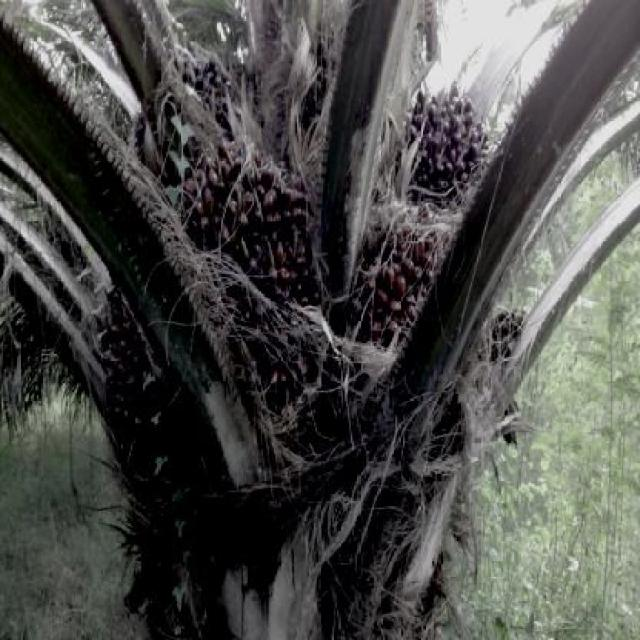palm-oil: (215, 291, 382, 460), (80, 260, 200, 485), (176, 141, 322, 312), (405, 76, 489, 219), (362, 210, 435, 336), (193, 36, 270, 149)
